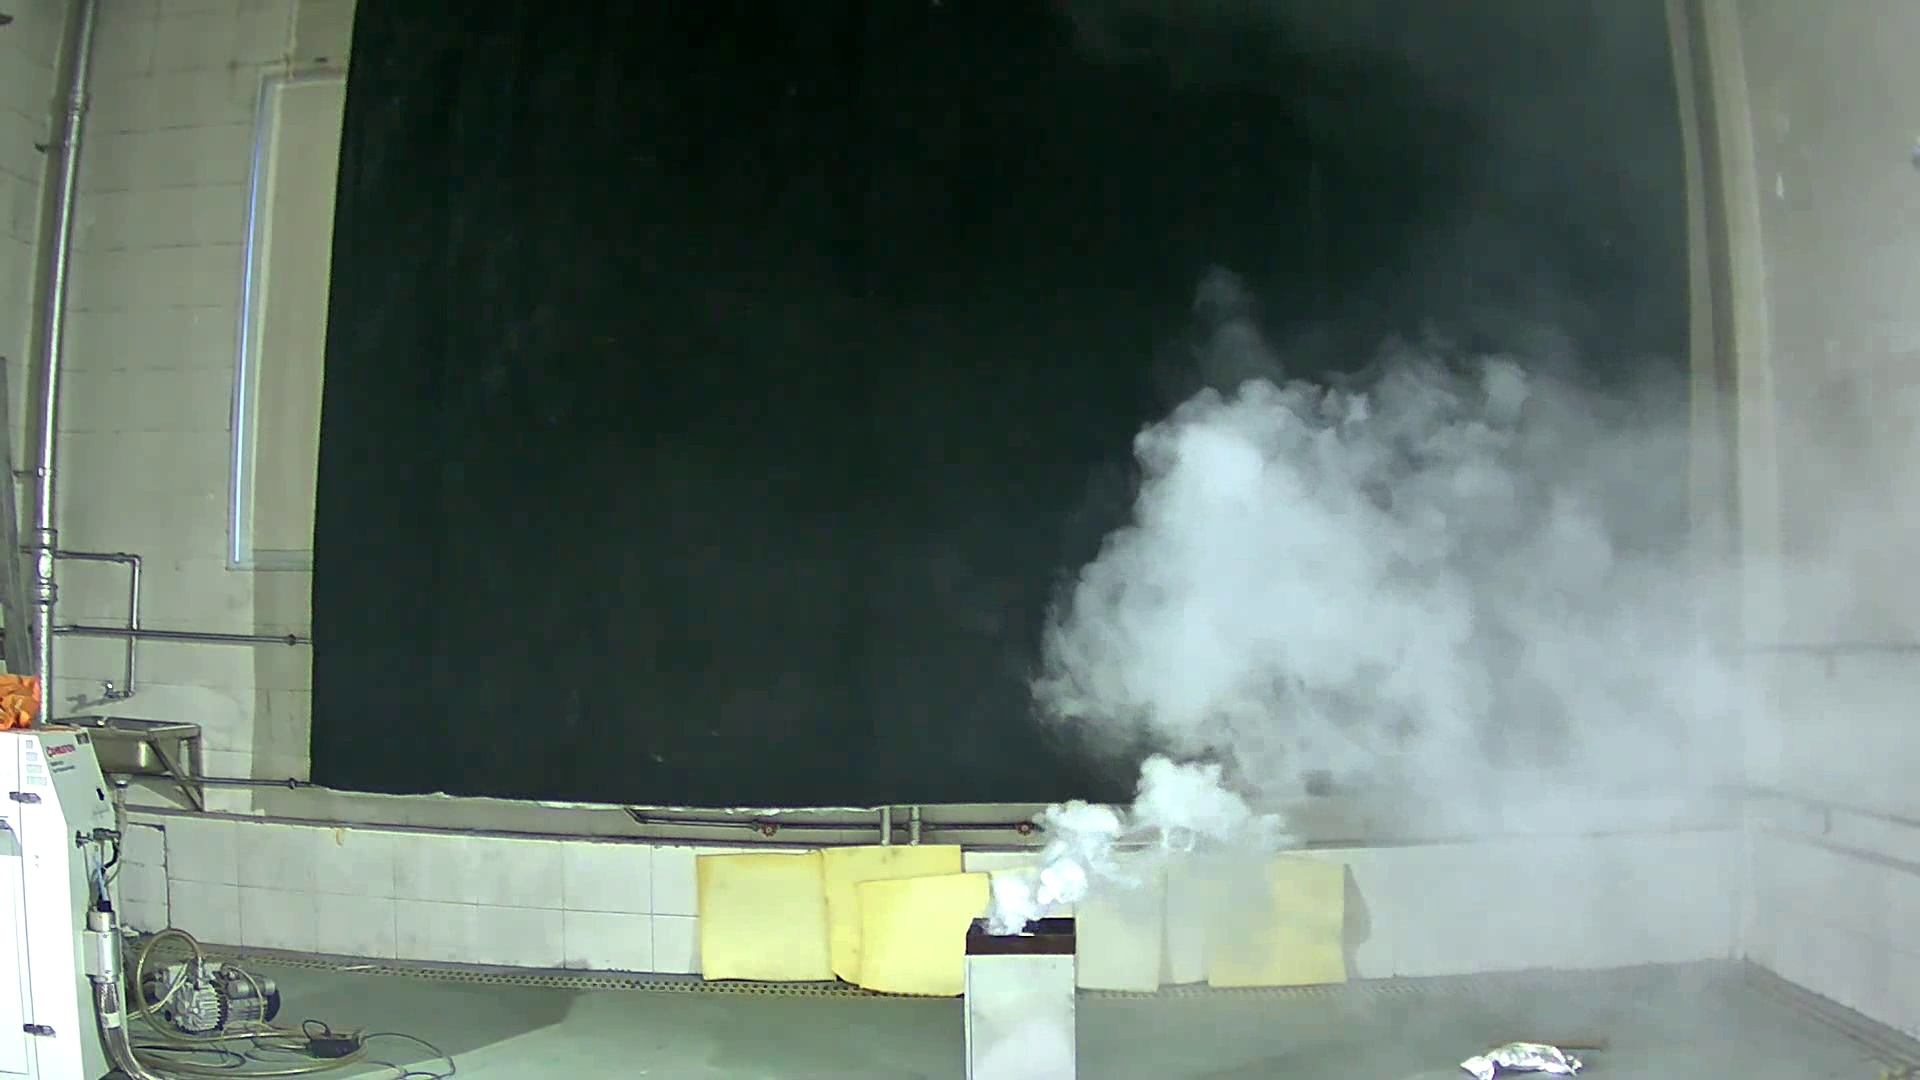smoke: (948, 286, 1725, 936)
